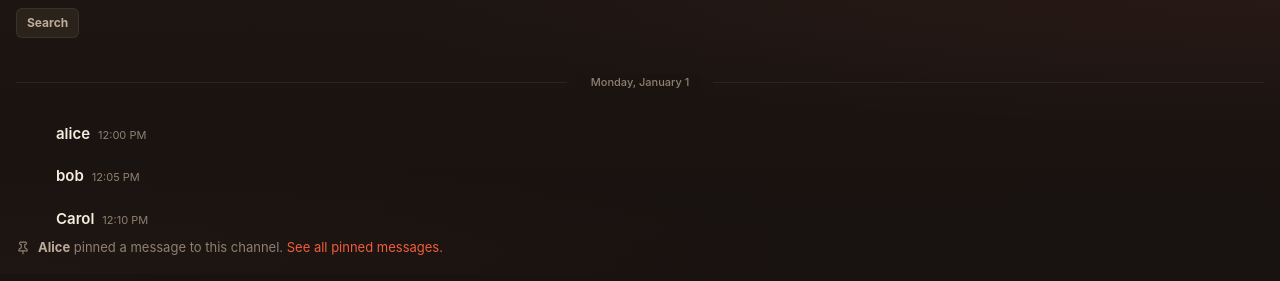
MessageList — message search › shows the number of loaded message matches
The width and height of the screenshot is (1280, 281).
Click the button with test id "message-search-expand".
click(48, 23)  # box [16,8,79,38]
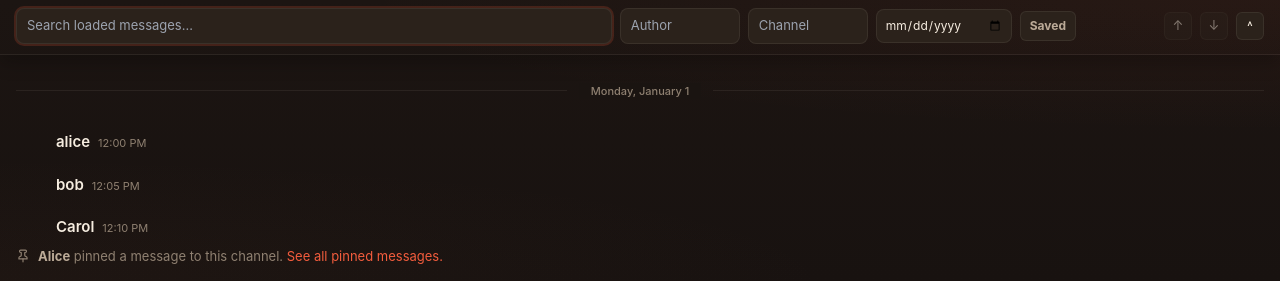
Type "peppers" into the search field with test id "message-search-input".
click(314, 26); type("peppers")  # box [16,8,612,44]
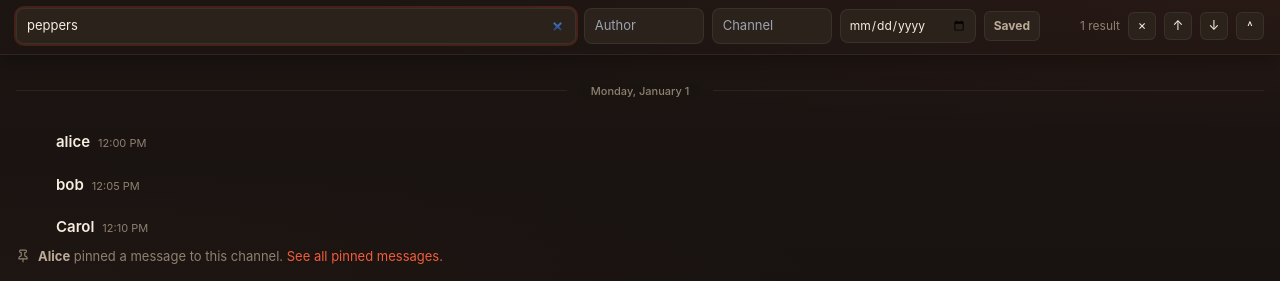
Check: the text with test id "message-search-count" reads "1 result", box [1080,18,1120,33]
